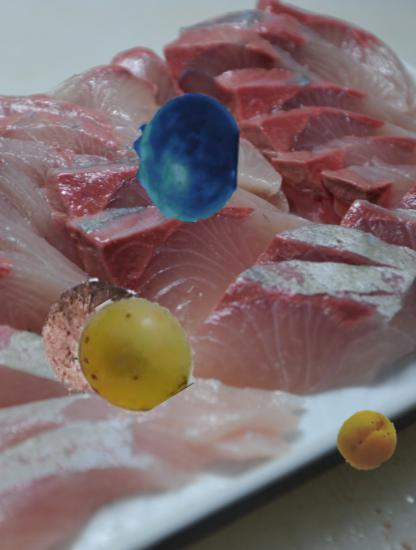Cocos: (35, 277, 158, 400)
Grape: (76, 294, 193, 411)
Huckleberry: (122, 93, 251, 222)
Peach: (337, 409, 399, 471)
